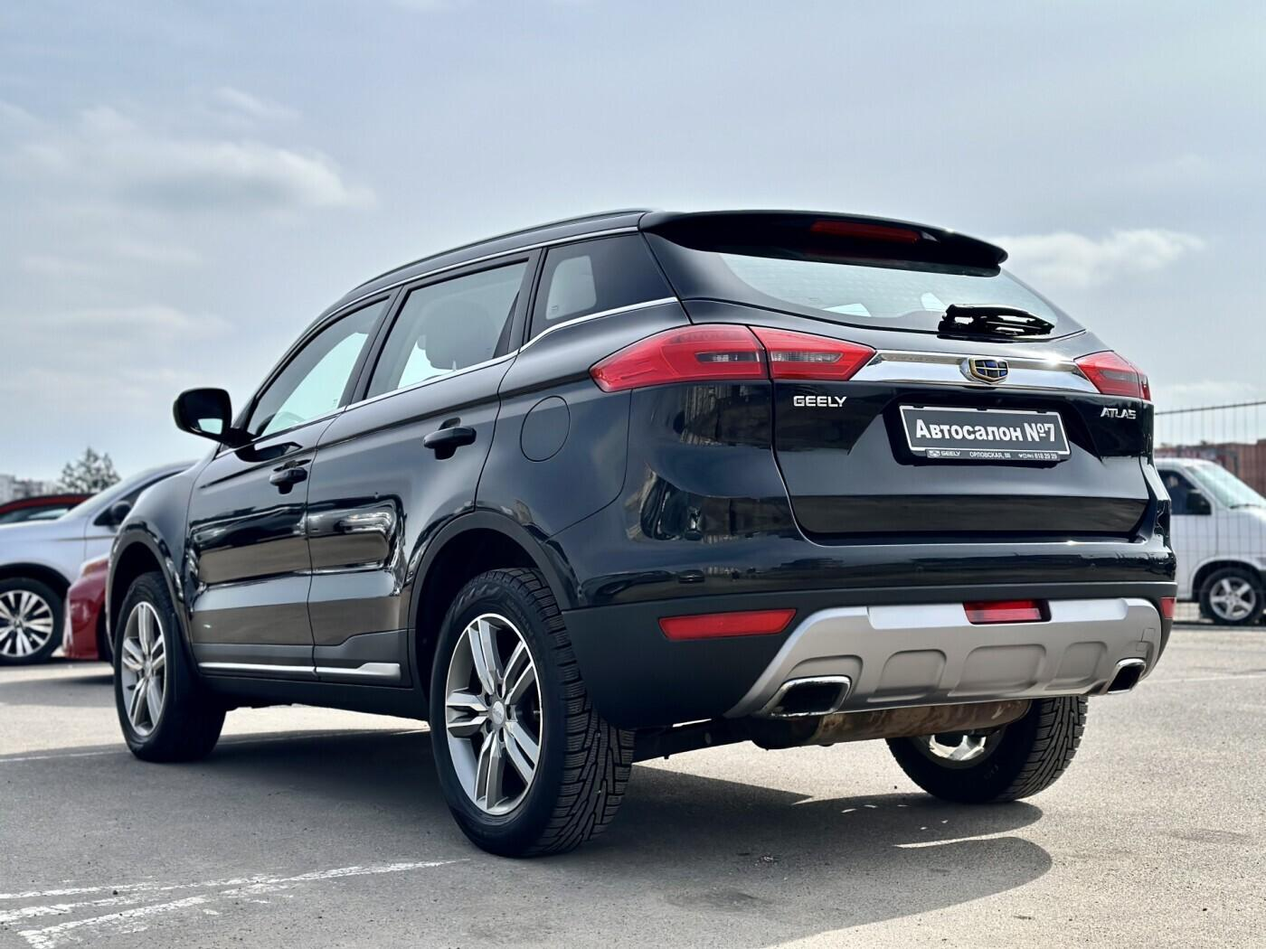Atlas_2016-2023: (98, 199, 1181, 861)
